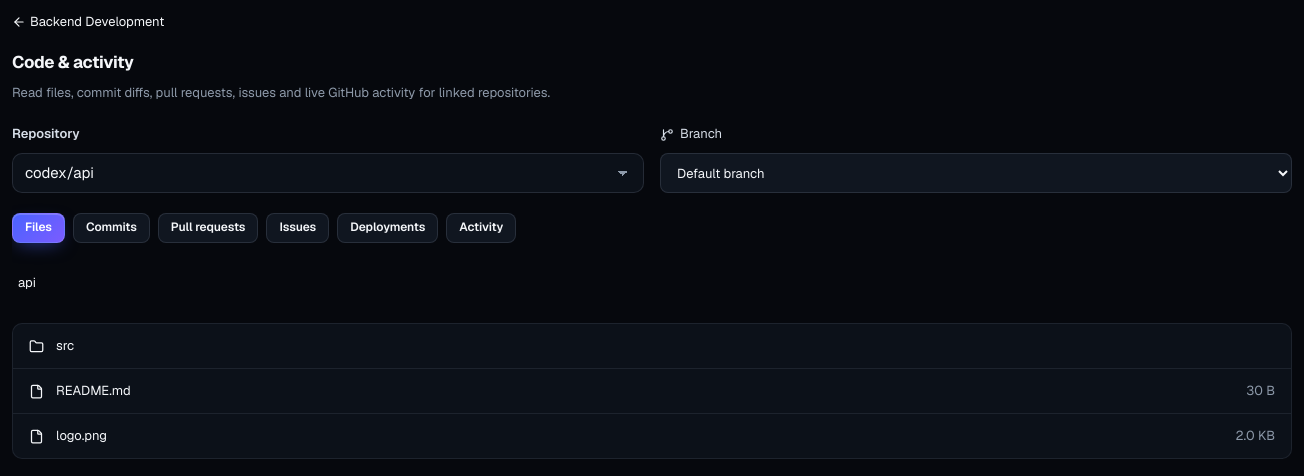
Test: Code & activity tool › does not turn a hostile feed link into a link
The image size is (1304, 476).
What coordinates should you click on to do the following:
click the button "Activity"
I would click on:
 (481, 228)
Its box is left=446, top=213, right=516, bottom=243.
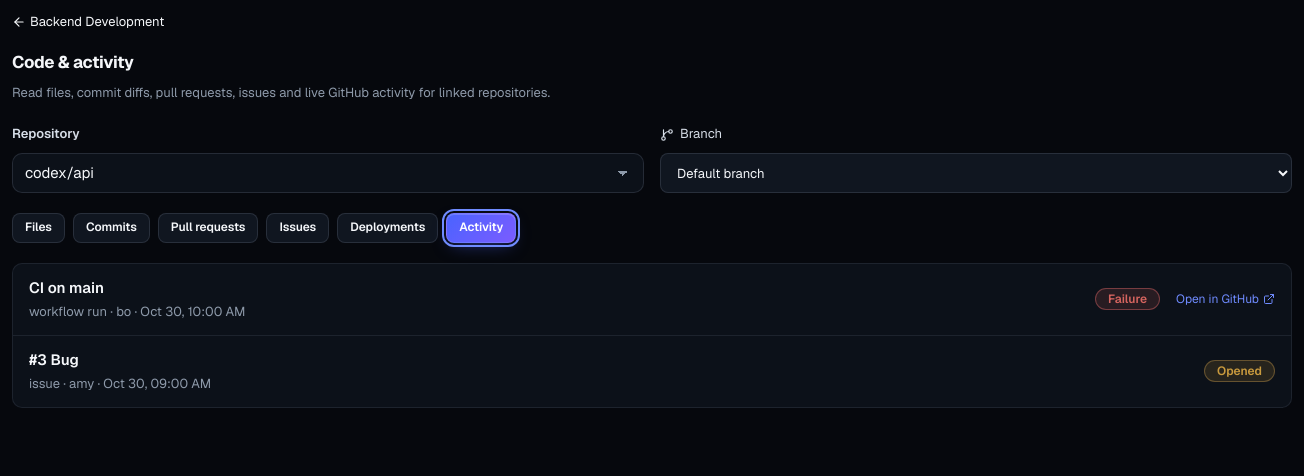
Result: the text "CI on main" is shown at left=29, top=278, right=104, bottom=297
Result: the text "failure" is shown at left=1095, top=288, right=1160, bottom=310
Result: the number of links "Open in GitHub" is 1 at left=1176, top=290, right=1275, bottom=309
